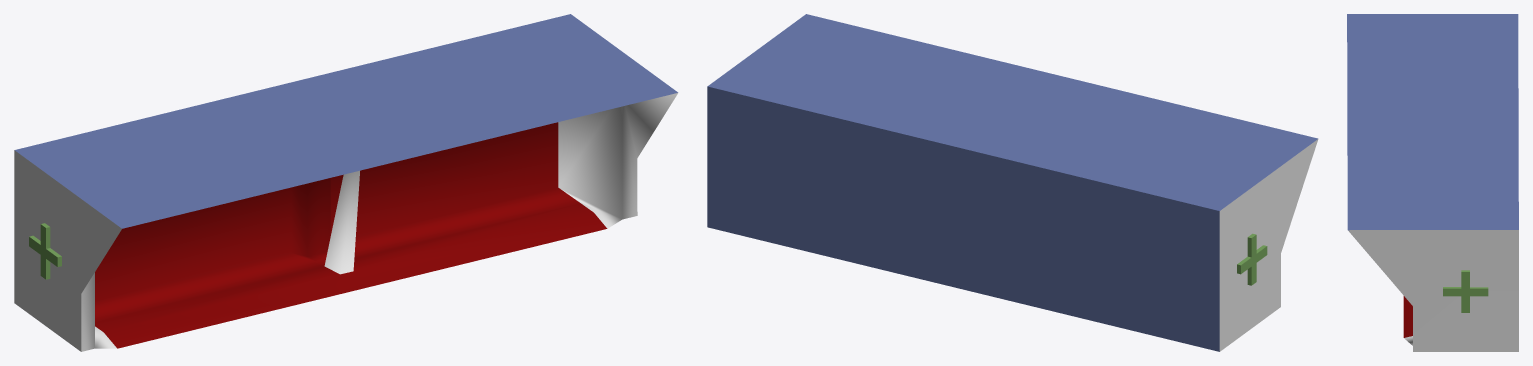
File: Pits2.fbx
3 views of the same model, side by side, from view 1: azimuth 30°, elevation 25°; view 2: azimuth 150°, elevation 25°; view 3: azimuth 270°, elevation 25° (orthographic). The views are drawn at different scales.
Visible parts, largest first — view 1: pCube1, pCube3; view 2: pCube1, pCube3; view 3: pCube1, pasted__pCube3.
Boxes of the visible parts, x1,y1,x2,y2 form: pCube1: [14, 14, 678, 351]; pCube3: [29, 223, 61, 279]; pCube1: [707, 14, 1318, 351]; pCube3: [1237, 233, 1267, 285]; pCube1: [1347, 14, 1518, 351]; pasted__pCube3: [1443, 270, 1488, 312].
Bounding box in the file's own units: 19.54 × 5.06 × 6.47.
